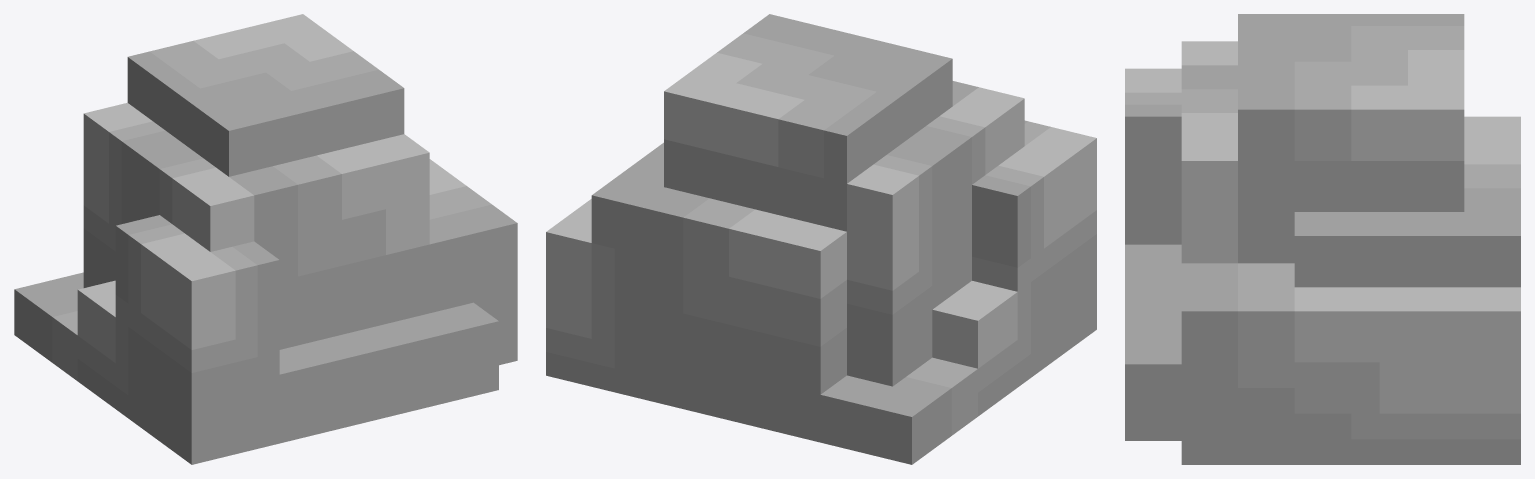
File: BeesAndTrees-8.obj
3 views of the same model, side by side, from view 1: azimuth 30°, elevation 25°; view 2: azimuth 150°, elevation 25°; view 3: azimuth 270°, elevation 25° (orthographic). The views are drawn at different scales.
Bounding box in the file's own units: 1.6 × 1.2 × 1.4.
Materials: 1 (1 with a texture image).
